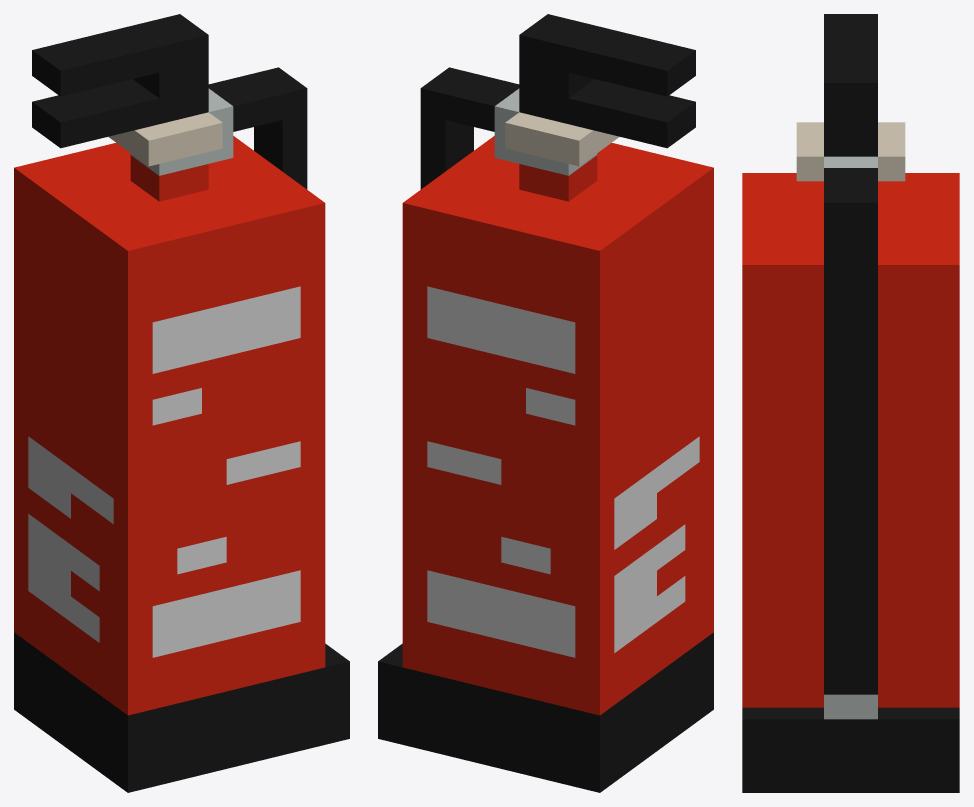
File: extinguisher.glb
The picture shows the model from 3 angles, left to right: view 1: azimuth 30°, elevation 25°; view 2: azimuth 150°, elevation 25°; view 3: azimuth 270°, elevation 25°; orthographic projection. The views are drawn at different scales.
Visible parts, largest first — view 1: Untitled; view 2: Untitled; view 3: Untitled.
Boxes of the visible parts, x1,y1,x2,y2 form: Untitled: [14, 14, 349, 792]; Untitled: [378, 14, 713, 792]; Untitled: [742, 14, 959, 792].
Bounding box in the file's own units: 0.3 × 0.81 × 0.24.
Materials: 1 (1 with a texture image).
